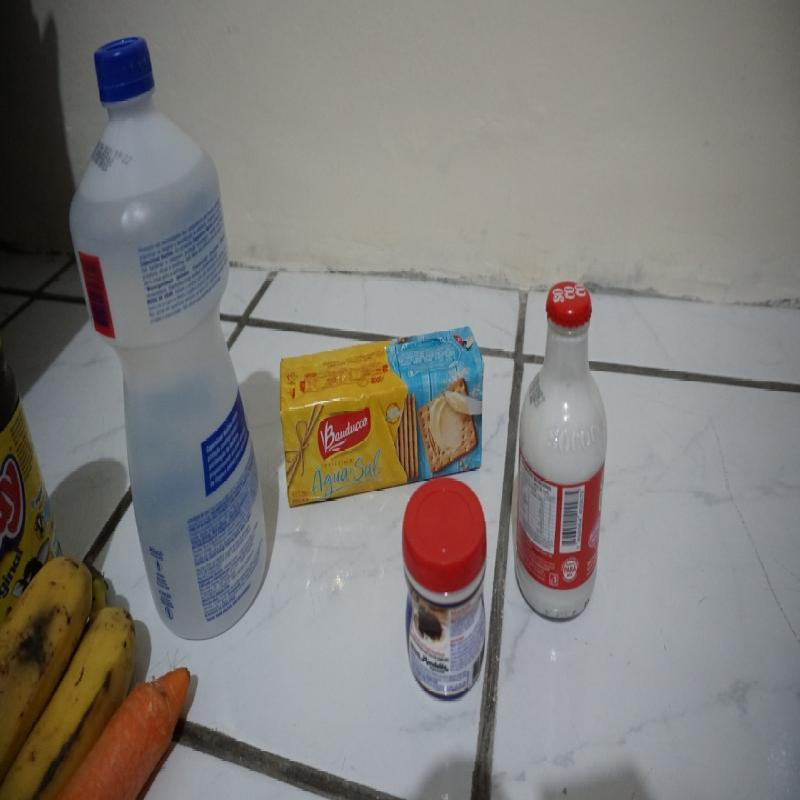Alcohol Bottle: (63, 32, 266, 544)
Banana: (1, 562, 86, 776)
Carrot: (96, 651, 196, 798)
Chocolate Powder: (1, 355, 54, 542)
Coconut Milk: (509, 282, 612, 620)
Cracker: (277, 319, 488, 476)
Yeast: (401, 481, 486, 689)
